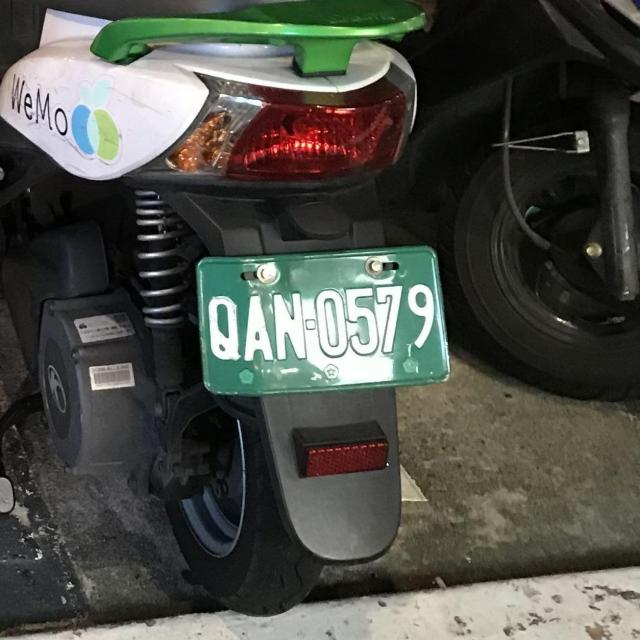GW: (189, 235, 456, 410)
